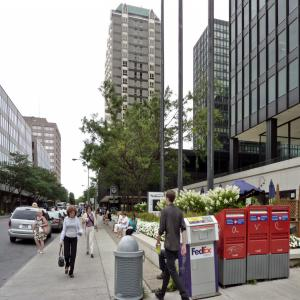Vehicle-registration-plate: (23, 224, 29, 229)
